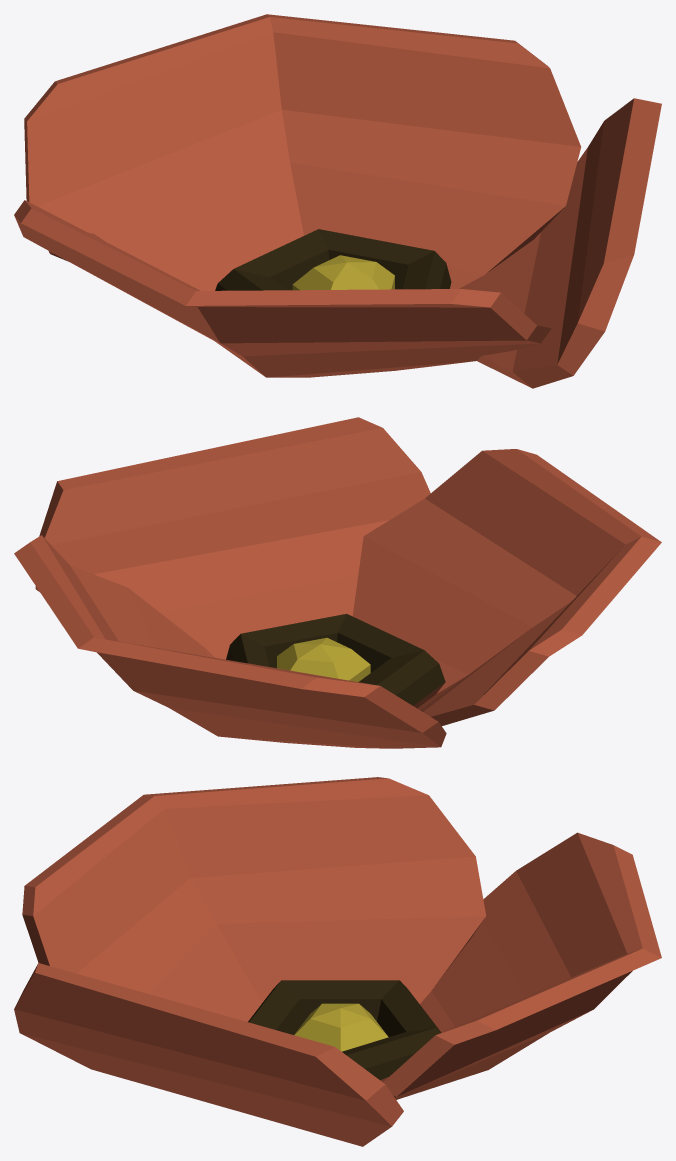
File: PoppyHead.fbx
3 views of the same model, one above another, from view 1: azimuth 30°, elevation 25°; view 2: azimuth 150°, elevation 25°; view 3: azimuth 270°, elevation 25° (orthographic). The views are drawn at different scales.
Parts seen in each view (by area): view 1: polySurface5; view 2: polySurface5; view 3: polySurface5.
Part boxes in pixels (x1=…): polySurface5: x1=14, y1=14, x2=661, y2=388; polySurface5: x1=14, y1=417, x2=661, y2=748; polySurface5: x1=14, y1=777, x2=661, y2=1146.
Size of the model in its own units: 2.87 by 0.8762 by 2.85.
